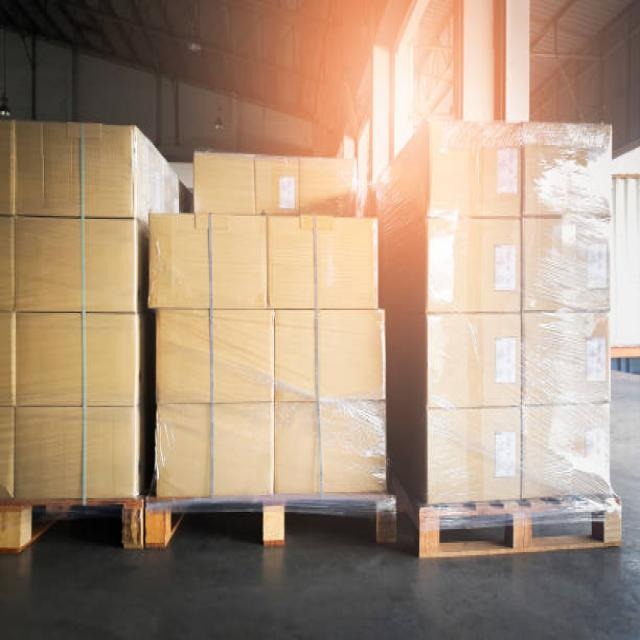Wooden-Pallets: (142, 483, 396, 560), (411, 489, 628, 569)
